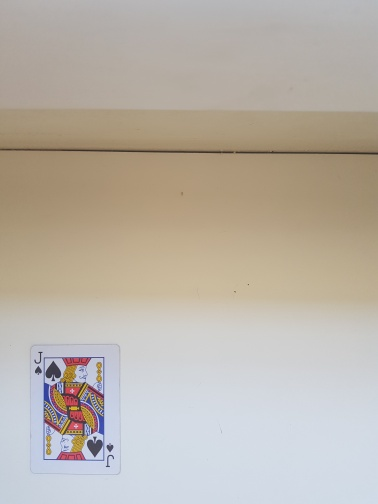jack: (29, 343, 120, 475)
